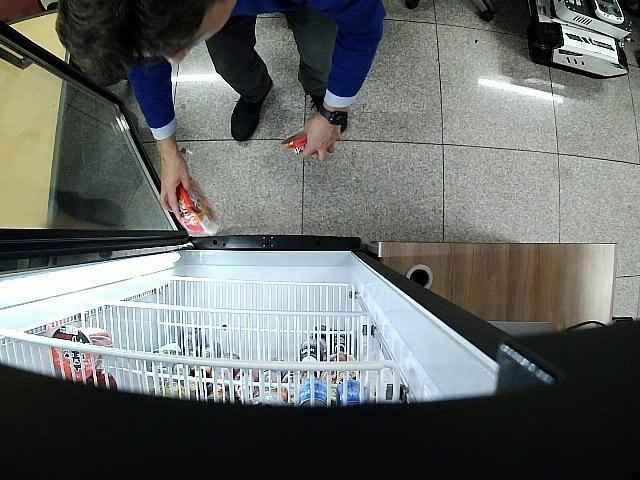10_wangTtukkeong: (176, 177, 219, 237), (282, 130, 330, 158)
